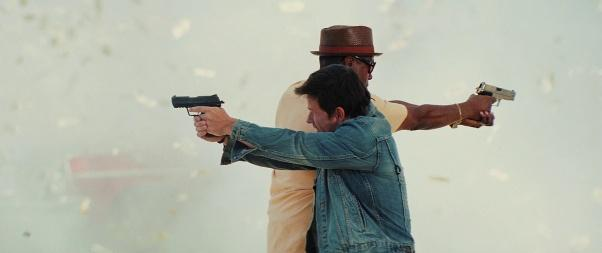Gun: (170, 93, 222, 113), (475, 82, 517, 103)
